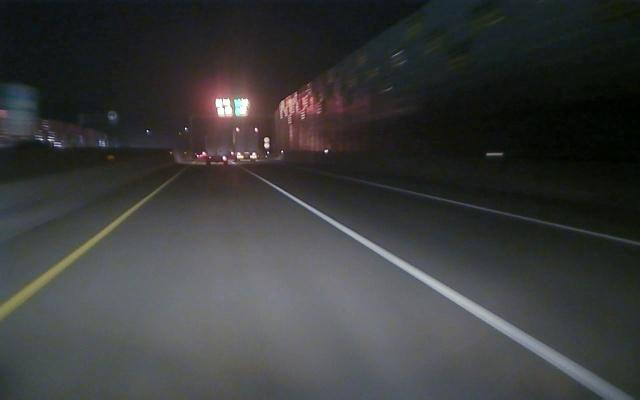lane: (260, 178, 635, 399), (331, 173, 640, 247), (3, 188, 159, 319)
